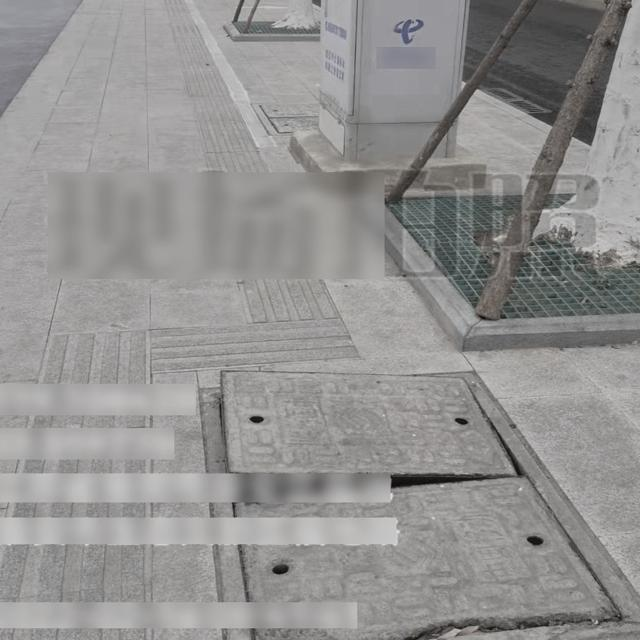uncovered: (188, 365, 640, 640)
